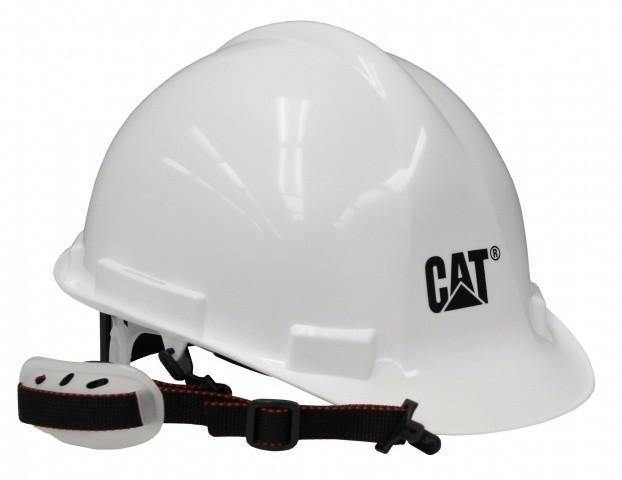helmet: (13, 17, 605, 454)
